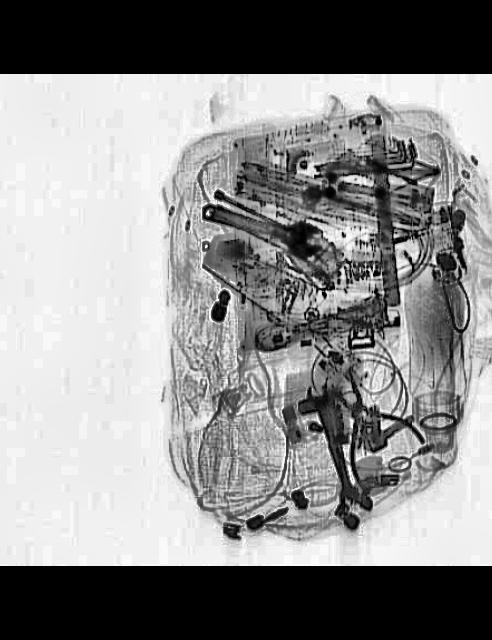Wrench: (193, 192, 327, 260), (299, 382, 362, 504)
